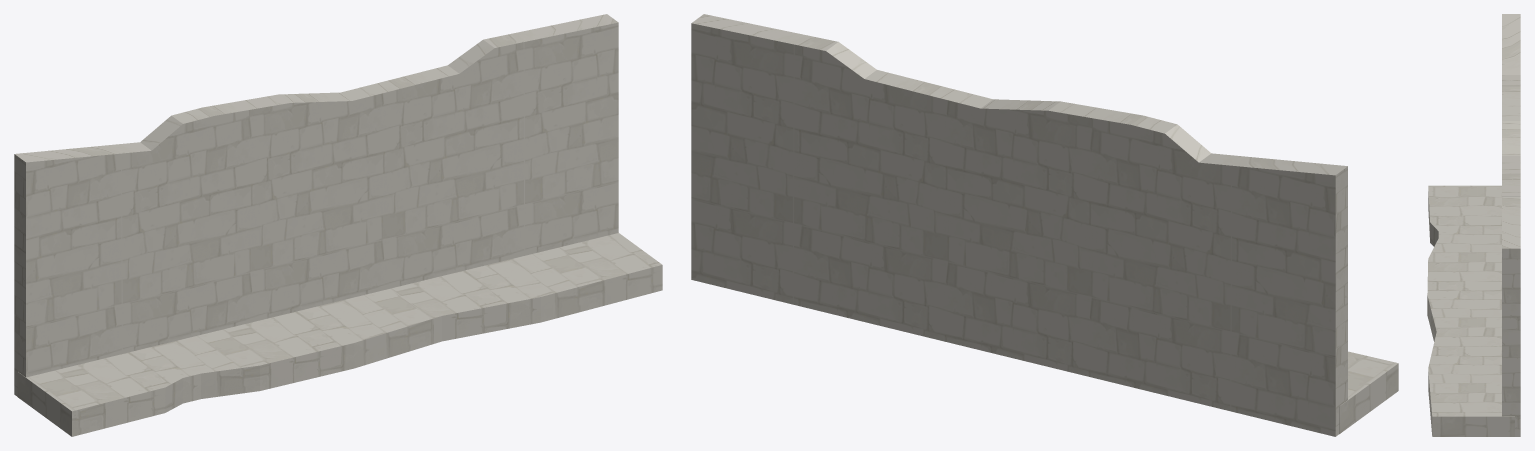
File: Bridge4.fbx
The picture shows the model from 3 angles, left to right: view 1: azimuth 30°, elevation 25°; view 2: azimuth 150°, elevation 25°; view 3: azimuth 270°, elevation 25°; orthographic projection. The views are drawn at different scales.
Parts seen in each view (by area): view 1: Bridge4.001; view 2: Bridge4.001; view 3: Bridge4.001.
Boxes of the visible parts, box(x1,y1,x2,y2) form: Bridge4.001: box(14, 14, 662, 436); Bridge4.001: box(691, 14, 1398, 436); Bridge4.001: box(1427, 14, 1520, 436).
Size of the model in its own units: 168 by 383 by 985.
1 material, 1 textured.
